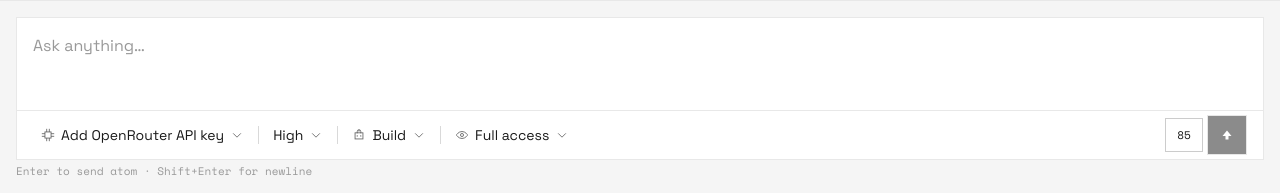
Test: WorkspaceComposer › enables send button when draft has text
The image size is (1280, 193).
Type "hello" into the text box with placeholder "Ask anything…" at [640, 70], box top-left (33, 34), bottom-right (1247, 106)
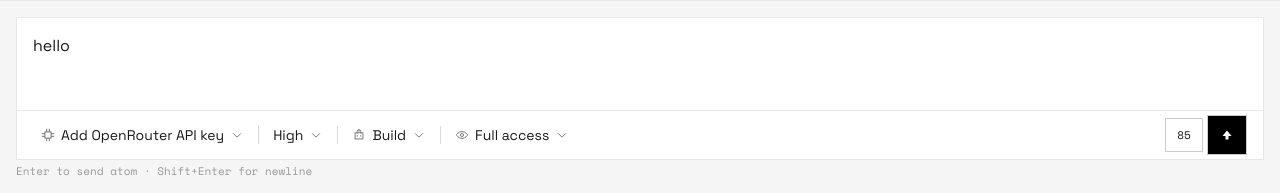
Check: the button named "Send atom" is enabled, box top-left (1207, 115), bottom-right (1247, 155)
